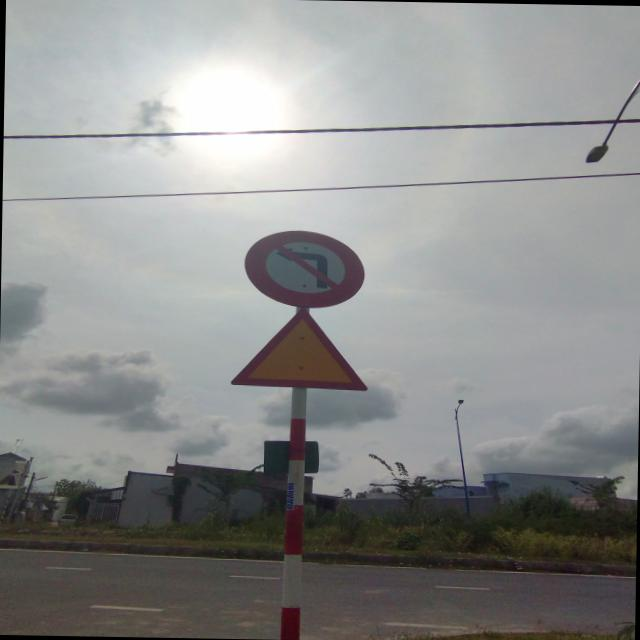Cam_Re_Trai: (242, 228, 366, 310)
Gioi_Han_Toc_Do_25: (230, 306, 369, 392)
